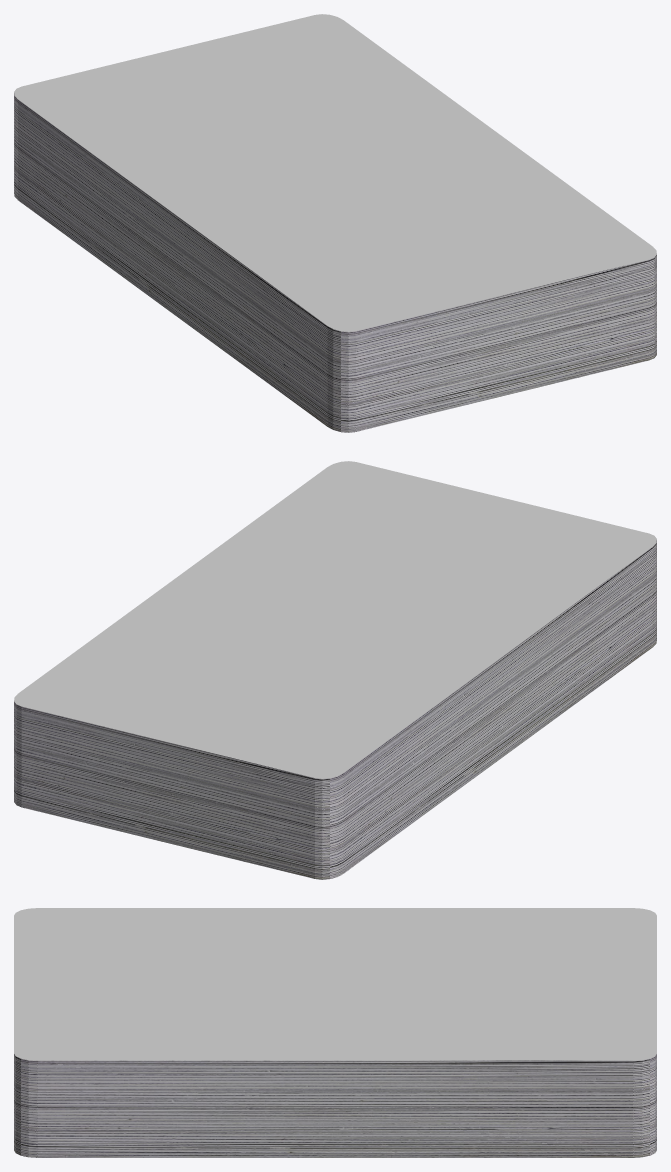
The model's file is Deck.fbx.
3 views of the same model, one above another, from view 1: azimuth 30°, elevation 25°; view 2: azimuth 150°, elevation 25°; view 3: azimuth 270°, elevation 25° (orthographic). The views are drawn at different scales.
Visible parts, largest first — view 1: Deck; view 2: Deck; view 3: Deck.
Boxes of the visible parts, bbox=[...] form: Deck: bbox=[14, 14, 656, 432]; Deck: bbox=[14, 461, 656, 879]; Deck: bbox=[14, 908, 656, 1157].
Size of the model in its own units: 506 by 150 by 900.
